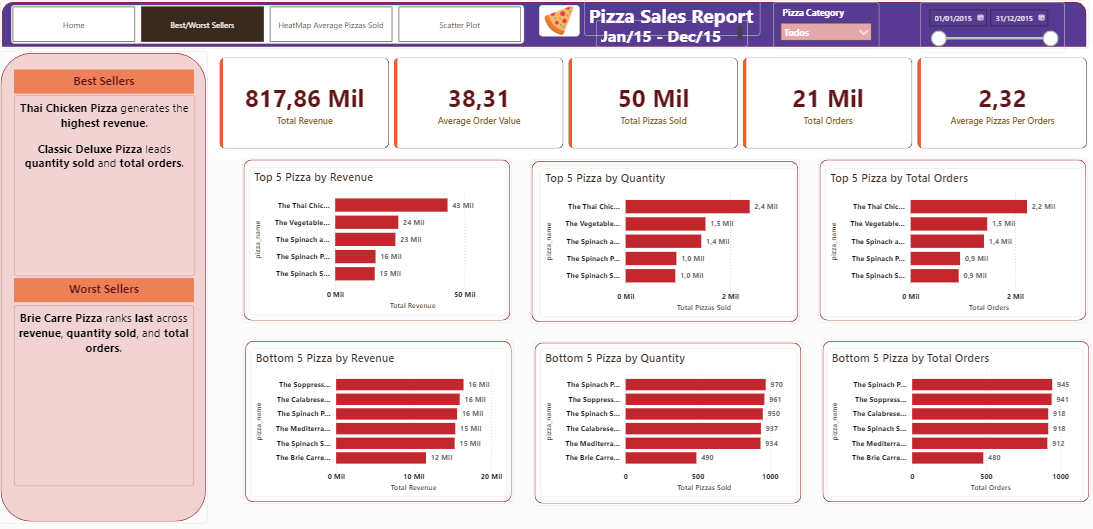

What the dashboard file says about the page in this screenshot:
{"tool":"powerbi","page":{"name":"Best/Worst Sellers","canvas":[1920,1080],"ordinal":1},"visuals":[{"type":"cardVisual","fields":{"Data":["vw_pizza_sales_analytics.Total Revenue","vw_pizza_sales_analytics.Average Order Value","vw_pizza_sales_analytics.Total Pizzas Sold","vw_pizza_sales_analytics.Total Orders","vw_pizza_sales_analytics.Average Pizzas Per Orders"]},"box":[387.2,213.5,1472,185.1],"z":0},{"type":"shape","box":[42.7,136.7,1802.3,79.7],"z":1000},{"type":"shape","box":[40,222,346.4,782],"z":1000,"group":"g1"},{"type":"textbox","box":[1009.2,132.3,291.6,62.7],"z":2000},{"type":"textbox","box":[1028.7,169,250.6,45.4],"z":3000},{"type":"image","box":[933.6,143.1,67,51.8],"z":4000},{"type":"shape","title":"asd","box":[442.5,397.5,447.5,272.5],"z":5000},{"type":"slicer","fields":{"Values":["vw_pizza_sales_analytics.pizza_category"]},"box":[1322,138,176,78],"z":6000},{"type":"slicer","fields":{"Values":["vw_pizza_sales_analytics.order_date"]},"box":[1566,138,240,84],"z":7000},{"type":"group","id":"g1","title":"Grupo 3","box":[36,222,350.4,782],"z":8000},{"type":"shape","title":"asd","box":[920,400,447.5,272.5],"z":9000},{"type":"shape","title":"asd","box":[1397.5,397.5,447.5,272.5],"z":10000},{"type":"textbox","box":[36,632,346,48],"z":10000,"group":"g1"},{"type":"shape","title":"asd","box":[445.8,697.5,447.5,272.5],"z":11000},{"type":"textbox","box":[36,294,346,48],"z":12000,"group":"g1"},{"type":"shape","title":"asd","box":[923.3,700,447.5,272.5],"z":12000},{"type":"textbox","box":[36,680,348,294],"z":13000,"group":"g1"},{"type":"shape","title":"asd","box":[1400.8,697.5,447.5,272.5],"z":13000},{"type":"barChart","title":"Top 5 Pizza by Revenue","fields":{"Category":["vw_pizza_sales_analytics.pizza_name"],"Y":["vw_pizza_sales_analytics.Total Revenue"]},"box":[455,412.5,425,245],"z":14000},{"type":"textbox","box":[38,336,348,286],"z":15000,"group":"g1"},{"type":"barChart","title":"Top 5 Pizza by Quantity","fields":{"Category":["vw_pizza_sales_analytics.pizza_name"],"Y":["vw_pizza_sales_analytics.Total Pizzas Sold"]},"box":[936,416,424,246],"z":15000},{"type":"barChart","title":"Top 5 Pizza by Total Orders","fields":{"Category":["vw_pizza_sales_analytics.pizza_name"],"Y":["vw_pizza_sales_analytics.Total Orders"]},"box":[1410,416,424,246],"z":16000},{"type":"barChart","title":"Bottom 5 Pizza by Revenue","fields":{"Category":["vw_pizza_sales_analytics.pizza_name"],"Y":["vw_pizza_sales_analytics.Total Revenue"]},"box":[458,712,424,246],"z":17000},{"type":"barChart","title":"Bottom 5 Pizza by Quantity","fields":{"Category":["vw_pizza_sales_analytics.pizza_name"],"Y":["vw_pizza_sales_analytics.Total Pizzas Sold"]},"box":[936,712,424,246],"z":18000},{"type":"barChart","title":"Bottom 5 Pizza by Total Orders","fields":{"Category":["vw_pizza_sales_analytics.pizza_name"],"Y":["vw_pizza_sales_analytics.Total Orders"]},"box":[1412,714,424,246],"z":19000}]}

Visuals, with their boxes on the page's 1920x1080 design canvas (x1, y1, x2, y2). These are canvas units, not pixel positions in the 1093x529 screenshot, which may show the page scaled, cropped or inside an application window:
cardVisual - vw_pizza_sales_analytics.Total Revenue x vw_pizza_sales_analytics.Average Order Value: <box>387,214,1859,399</box>
shape: <box>43,137,1845,216</box>
shape: <box>40,222,386,1004</box>
textbox: <box>1009,132,1301,195</box>
textbox: <box>1029,169,1279,214</box>
image: <box>934,143,1001,195</box>
"asd" shape: <box>442,398,890,670</box>
slicer - vw_pizza_sales_analytics.pizza_category: <box>1322,138,1498,216</box>
slicer - vw_pizza_sales_analytics.order_date: <box>1566,138,1806,222</box>
"Grupo 3" group: <box>36,222,386,1004</box>
"asd" shape: <box>920,400,1368,672</box>
"asd" shape: <box>1398,398,1845,670</box>
textbox: <box>36,632,382,680</box>
"asd" shape: <box>446,698,893,970</box>
textbox: <box>36,294,382,342</box>
"asd" shape: <box>923,700,1371,972</box>
textbox: <box>36,680,384,974</box>
"asd" shape: <box>1401,698,1848,970</box>
"Top 5 Pizza by Revenue" barChart: <box>455,412,880,658</box>
textbox: <box>38,336,386,622</box>
"Top 5 Pizza by Quantity" barChart: <box>936,416,1360,662</box>
"Top 5 Pizza by Total Orders" barChart: <box>1410,416,1834,662</box>
"Bottom 5 Pizza by Revenue" barChart: <box>458,712,882,958</box>
"Bottom 5 Pizza by Quantity" barChart: <box>936,712,1360,958</box>
"Bottom 5 Pizza by Total Orders" barChart: <box>1412,714,1836,960</box>
